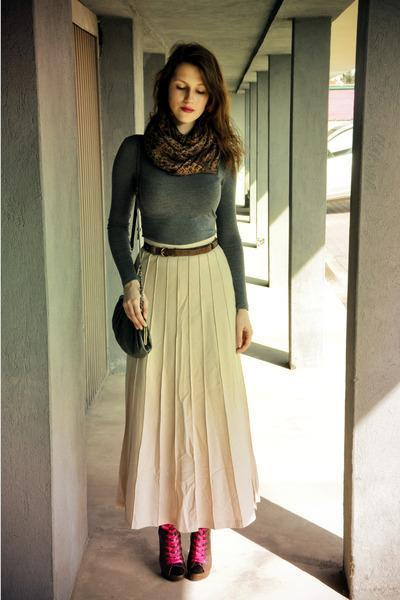bag: (112, 300, 151, 357)
shirt: (108, 134, 247, 323)
shoe: (156, 516, 211, 581)
skirt: (109, 233, 262, 532)
